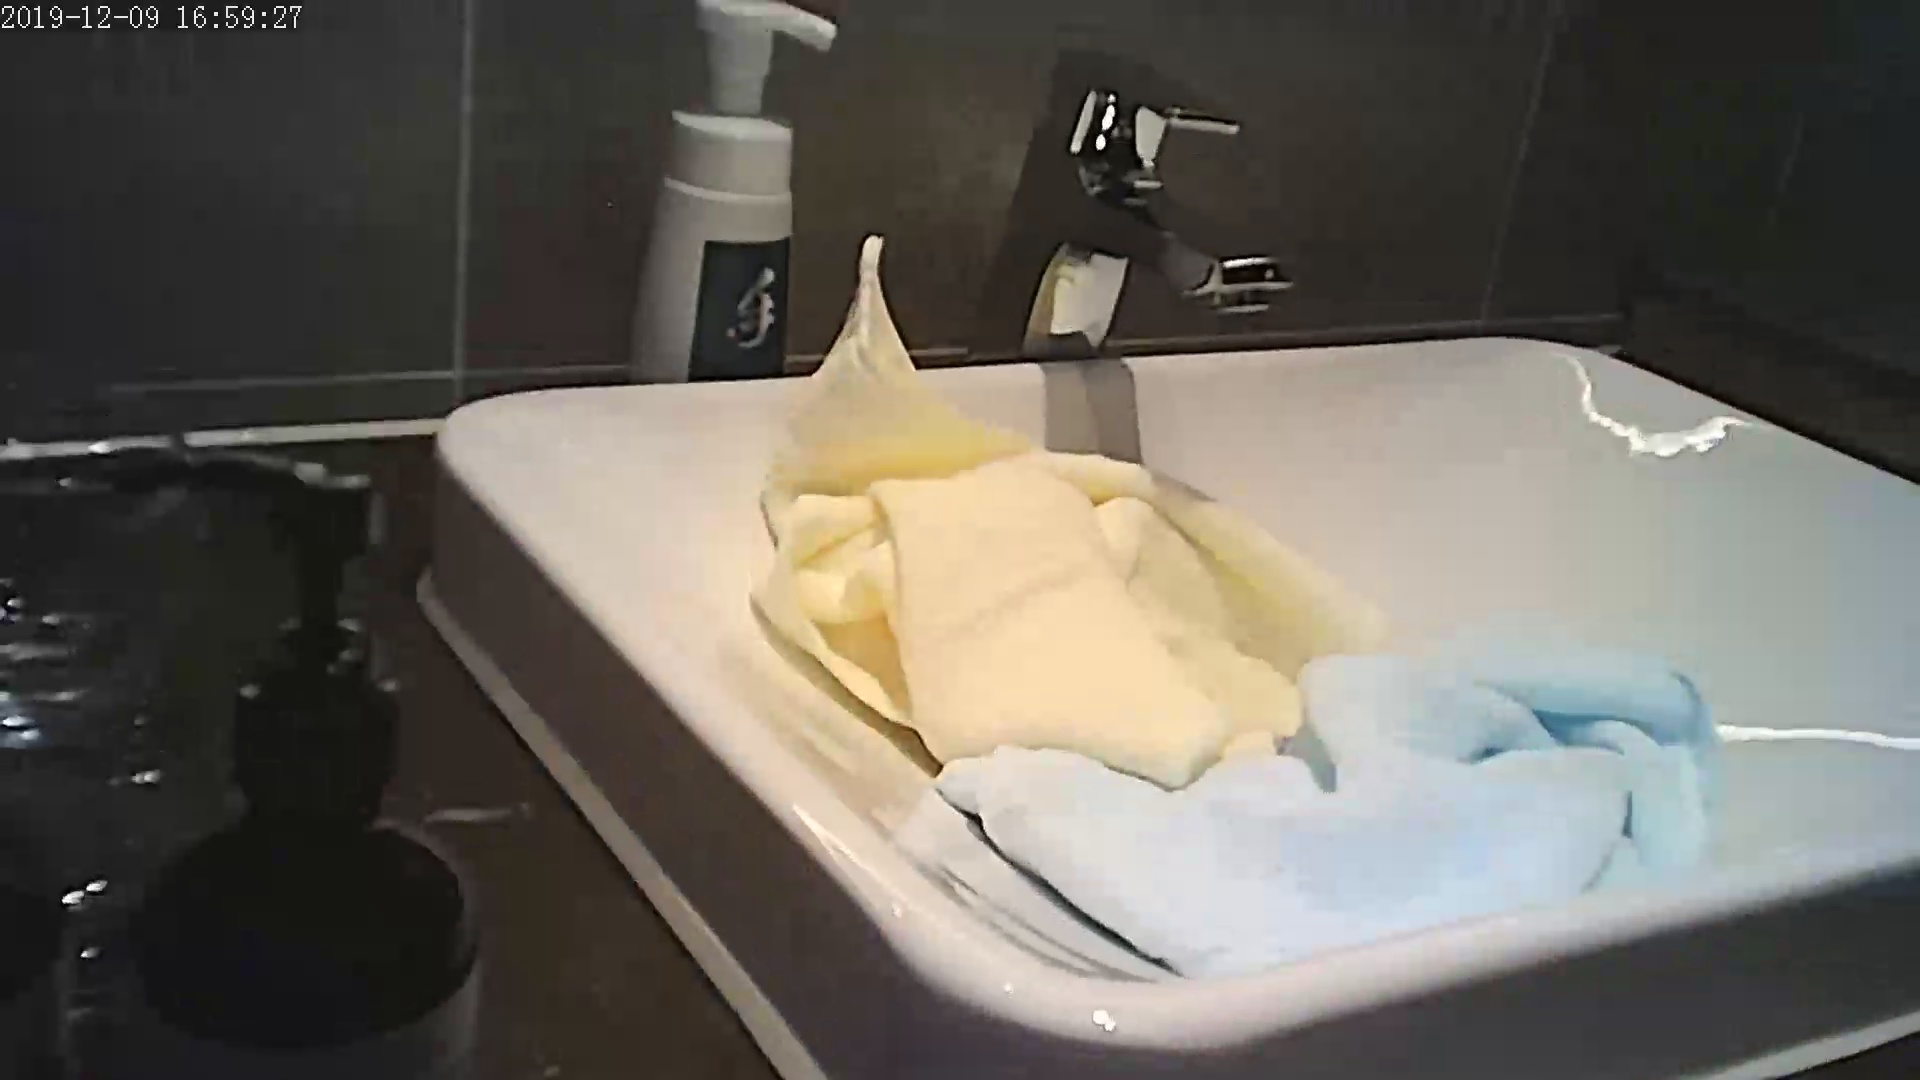bluecloth: (1051, 658, 1691, 953)
sink: (384, 20, 1911, 1073)
yellowcloth: (794, 382, 1220, 744)
